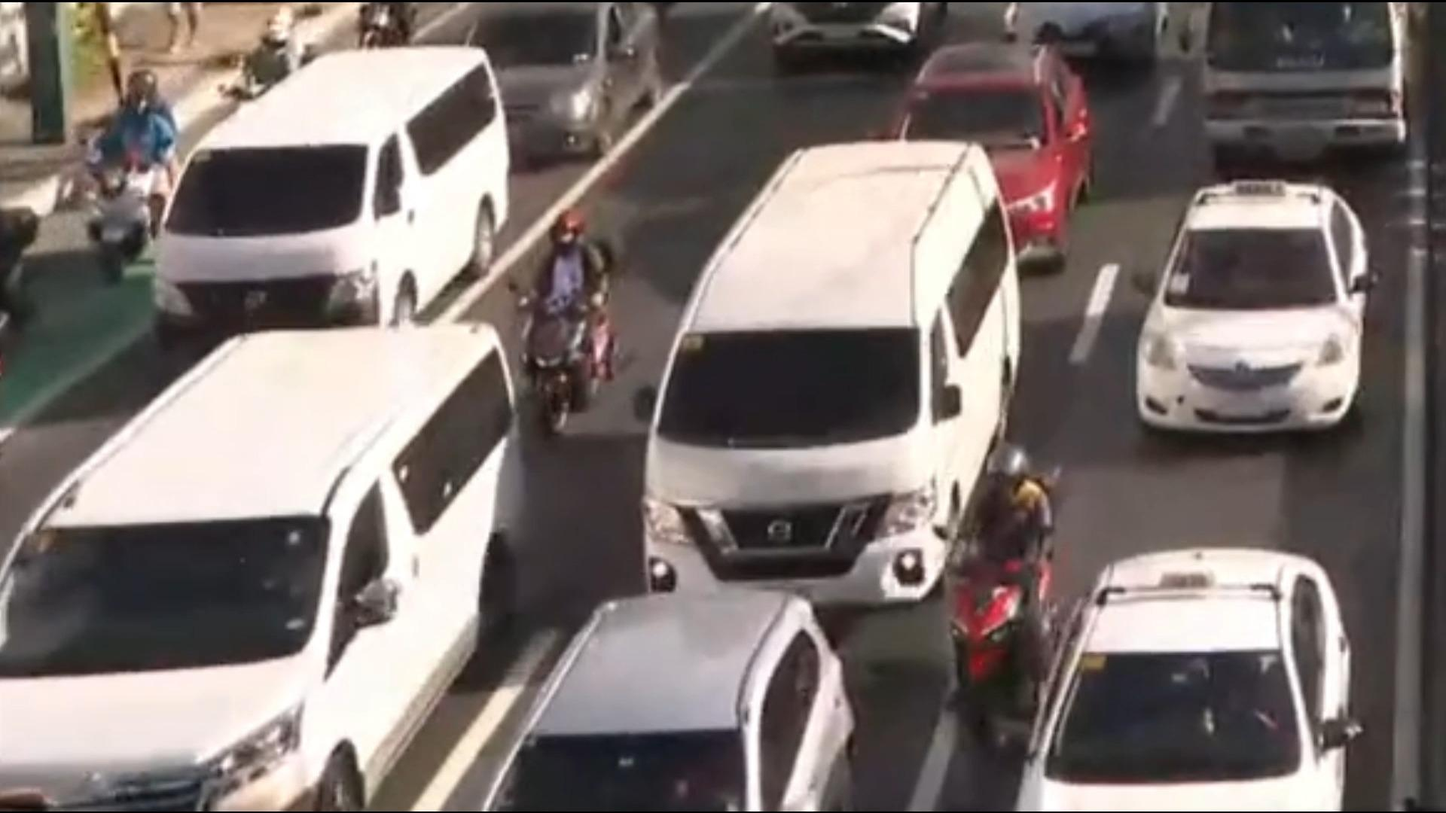Motorcycle: (915, 450, 1061, 733), (510, 174, 624, 452), (72, 51, 202, 267), (227, 12, 319, 134), (358, 0, 430, 66)
Sedan: (995, 512, 1369, 813), (457, 572, 846, 813), (1097, 172, 1399, 453), (890, 17, 1115, 246)
Truck: (1171, 0, 1431, 196)
Van: (0, 292, 539, 813), (640, 108, 1013, 607), (134, 23, 516, 378)
